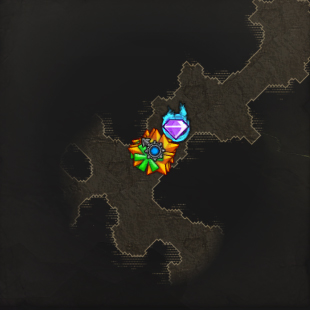Urushi: (161, 102, 191, 142)
